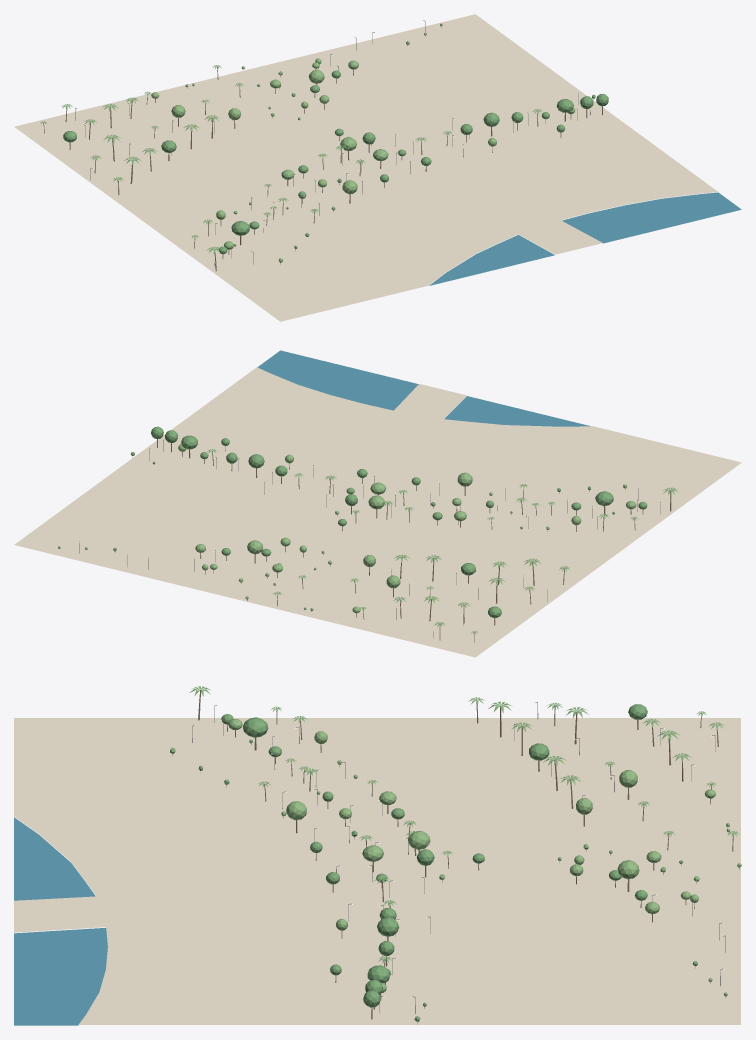
File: nature_3_3.glb
3 views of the same model, one above another, from view 1: azimuth 30°, elevation 25°; view 2: azimuth 150°, elevation 25°; view 3: azimuth 270°, elevation 25° (orthographic). The views are drawn at different scales.
Parts seen in each view (by area): view 1: ground, water, foliage_a, foliage_b, palm_leaf, trunk, lamp_pole; view 2: ground, water, foliage_a, foliage_b, palm_leaf, trunk; view 3: ground, water, foliage_a, foliage_b, palm_leaf, trunk, lamp_pole.
Part boxes in pixels (x1,y1,x2,y2): ground: (14, 14, 717, 321); water: (429, 192, 741, 285); foliage_a: (63, 23, 608, 254); foliage_b: (151, 32, 575, 262); palm_leaf: (40, 65, 542, 253); trunk: (43, 27, 602, 271); lamp_pole: (75, 20, 590, 265); ground: (14, 367, 741, 657); water: (257, 350, 590, 426); foliage_a: (58, 426, 647, 617); foliage_b: (85, 444, 636, 613); palm_leaf: (207, 449, 678, 634); trunk: (115, 439, 671, 642); ground: (14, 718, 740, 1024); water: (14, 817, 107, 1025); foliage_a: (198, 704, 727, 1021); foliage_b: (170, 719, 741, 992); palm_leaf: (189, 686, 739, 963); trunk: (172, 690, 739, 1024); lamp_pole: (192, 702, 725, 1013).
Size of the model in its own units: 253 by 13.09 by 250.
